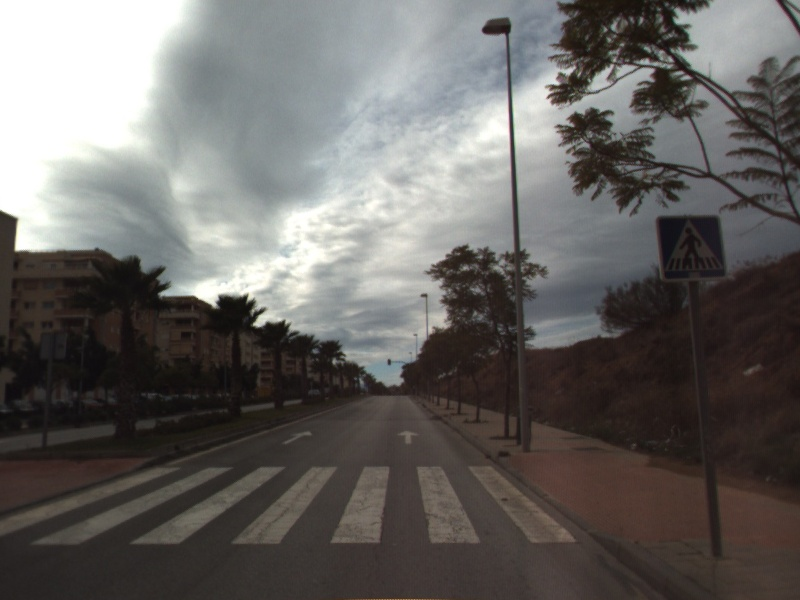STRAIGHT: (280, 429, 315, 446), (395, 429, 421, 446)
